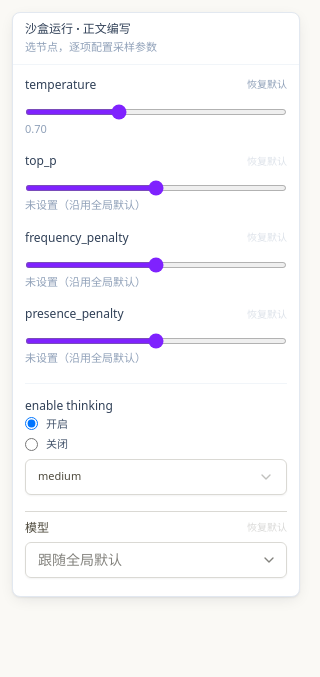
NodeLlmParamsPanel model_ref override › 展开 combobox 列表，未配置 model_ref 时不预选任何一条
Expected: the dropdown with placeholder "跟随全局默认" is shown, [26,542,257,578]
Click the 6th button: point(269, 560) [257,548,281,572]
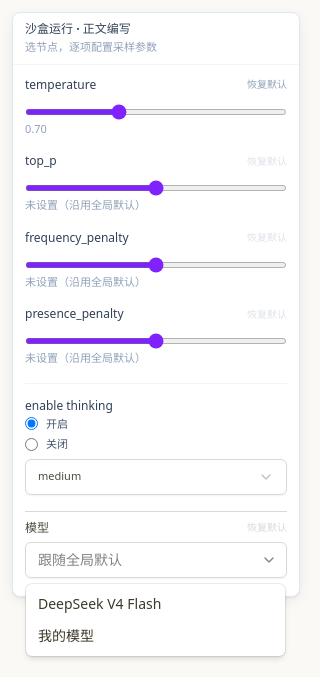
Expected: the option "DeepSeek V4 Flash" is shown, [38,594,161,613]
